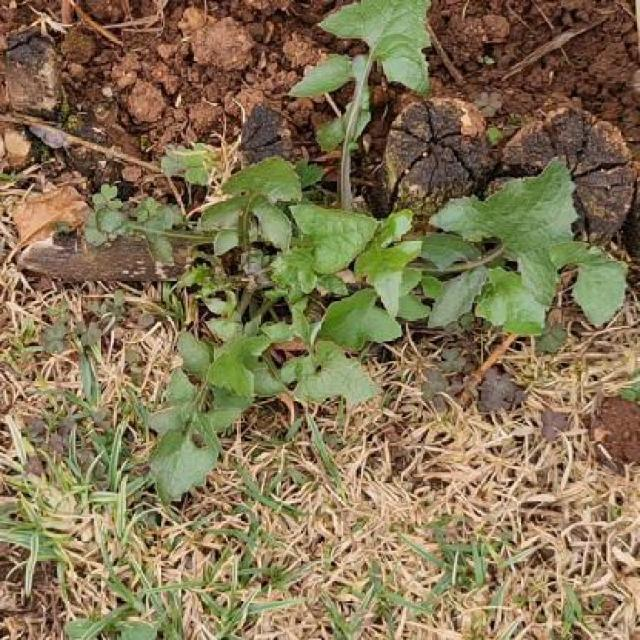weed: (85, 157, 629, 501), (292, 0, 429, 130)
